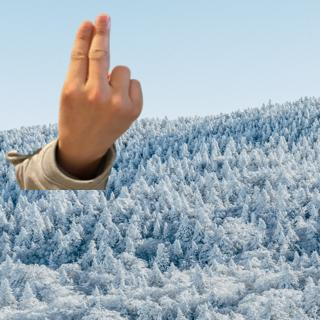DHAVE: (53, 9, 146, 160)
